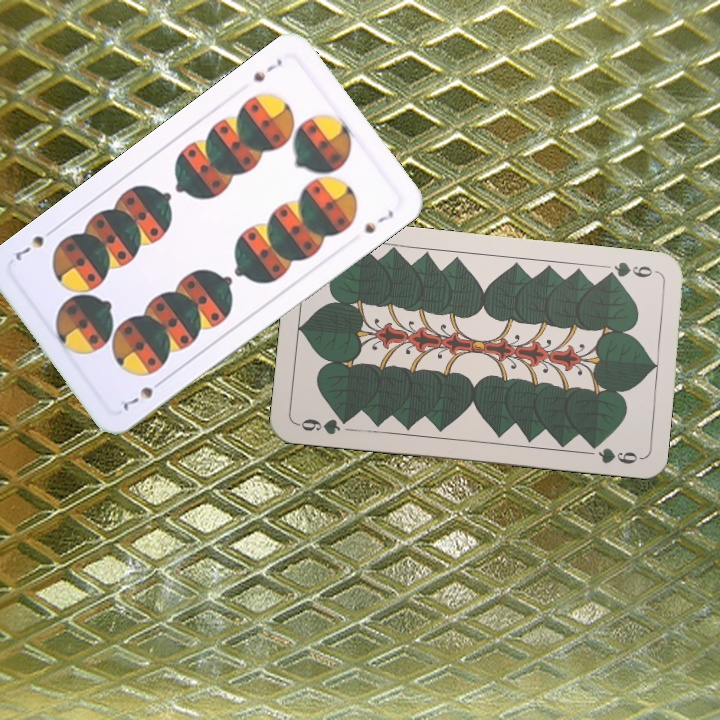G9: (294, 413, 354, 437), (600, 257, 660, 281)
S7: (119, 374, 168, 414), (249, 54, 285, 85)
